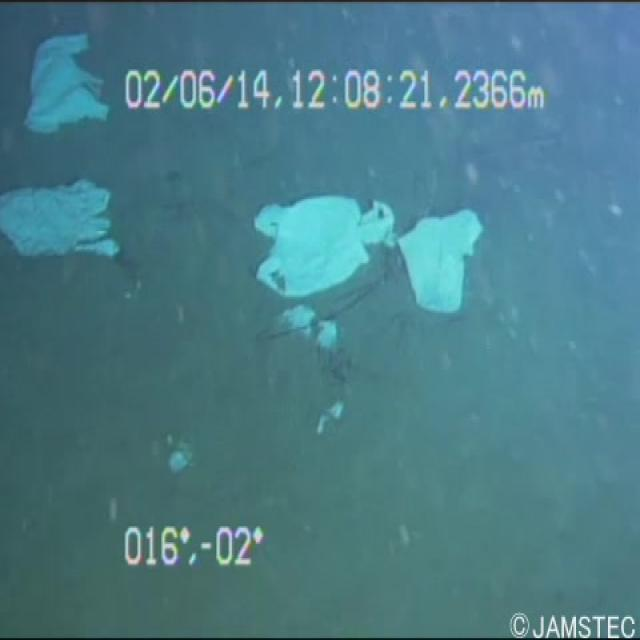plastic: (234, 166, 394, 300), (0, 157, 131, 279), (398, 183, 482, 315), (20, 19, 113, 137)
